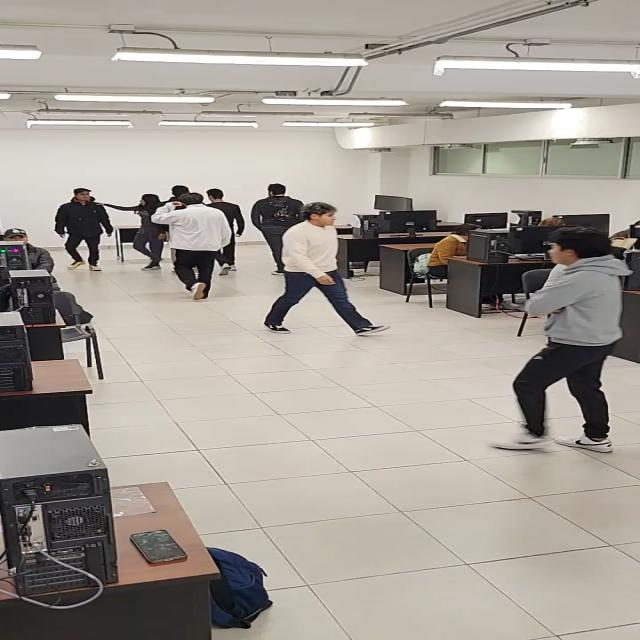Persona: (484, 225, 635, 453), (263, 202, 393, 338), (150, 193, 233, 302), (98, 191, 168, 271), (53, 186, 116, 272), (250, 184, 305, 276), (203, 189, 245, 276), (167, 183, 194, 206)
